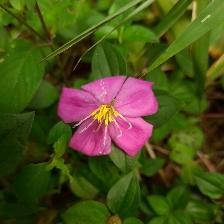malabar melastome: (58, 75, 159, 158)
